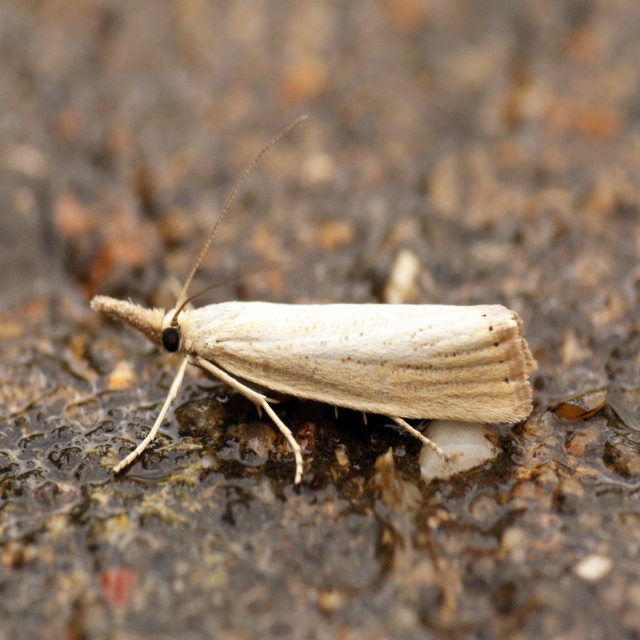Moths and butterflies: (86, 103, 540, 491)
